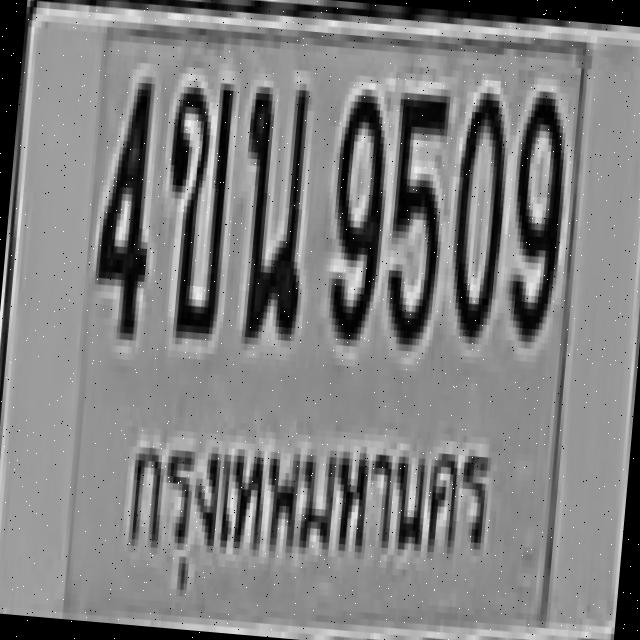0: (444, 84, 512, 338)
11KhorKhai: (153, 72, 234, 334)
34NorNu: (228, 75, 313, 338)
4: (86, 66, 158, 334)
5: (380, 89, 450, 343)
9: (321, 87, 392, 340), (503, 86, 571, 340)
Bangkok: (111, 397, 498, 614)
